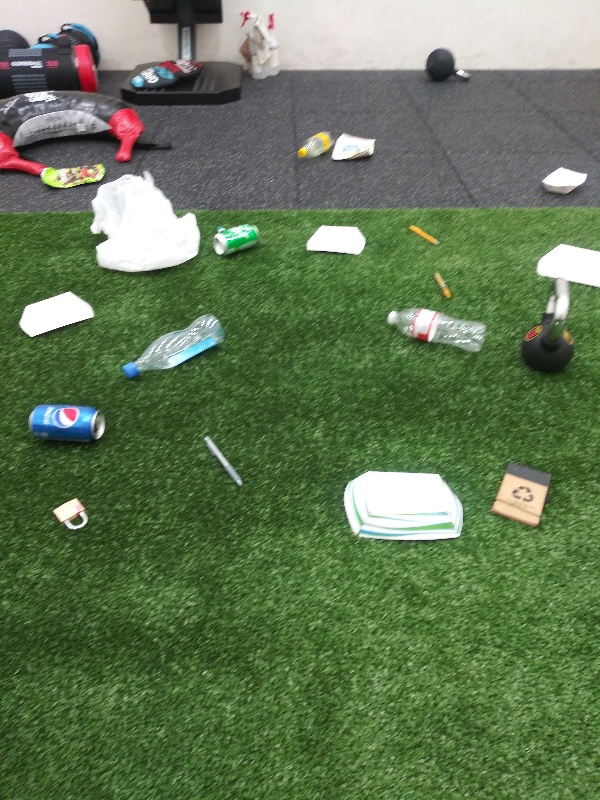bag: (35, 162, 112, 192), (331, 127, 377, 167)
bottle: (121, 311, 226, 384), (378, 303, 488, 365), (289, 125, 337, 165)
can: (25, 401, 108, 450), (210, 218, 266, 257)
plate: (341, 469, 477, 549), (15, 289, 99, 340), (532, 242, 600, 294), (302, 222, 369, 260), (537, 165, 593, 197)
